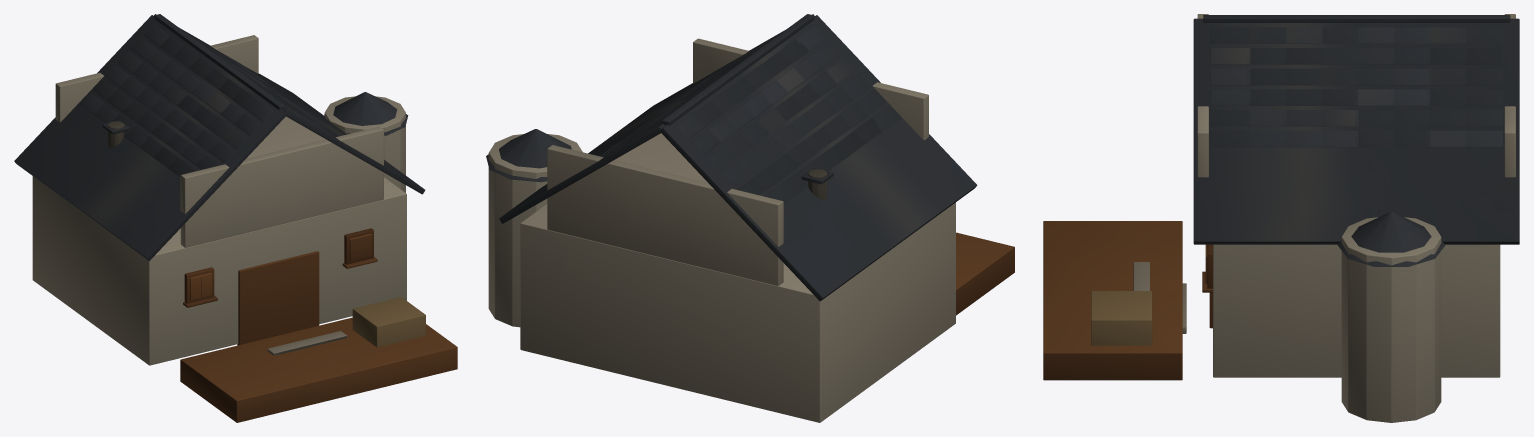
The model's file is building_royal_farm.fbx.
The picture shows the model from 3 angles, left to right: view 1: azimuth 30°, elevation 25°; view 2: azimuth 150°, elevation 25°; view 3: azimuth 270°, elevation 25°; orthographic projection. The views are drawn at different scales.
Parts seen in each view (by area): view 1: building_royal_farm; view 2: building_royal_farm; view 3: building_royal_farm.
Part boxes in pixels (x1,y1,x2,y2): building_royal_farm: (14,14,457,422); building_royal_farm: (486,14,1014,422); building_royal_farm: (1043,14,1519,422).
Bounding box in the file's own units: 10.92 × 7.56 × 10.94.
